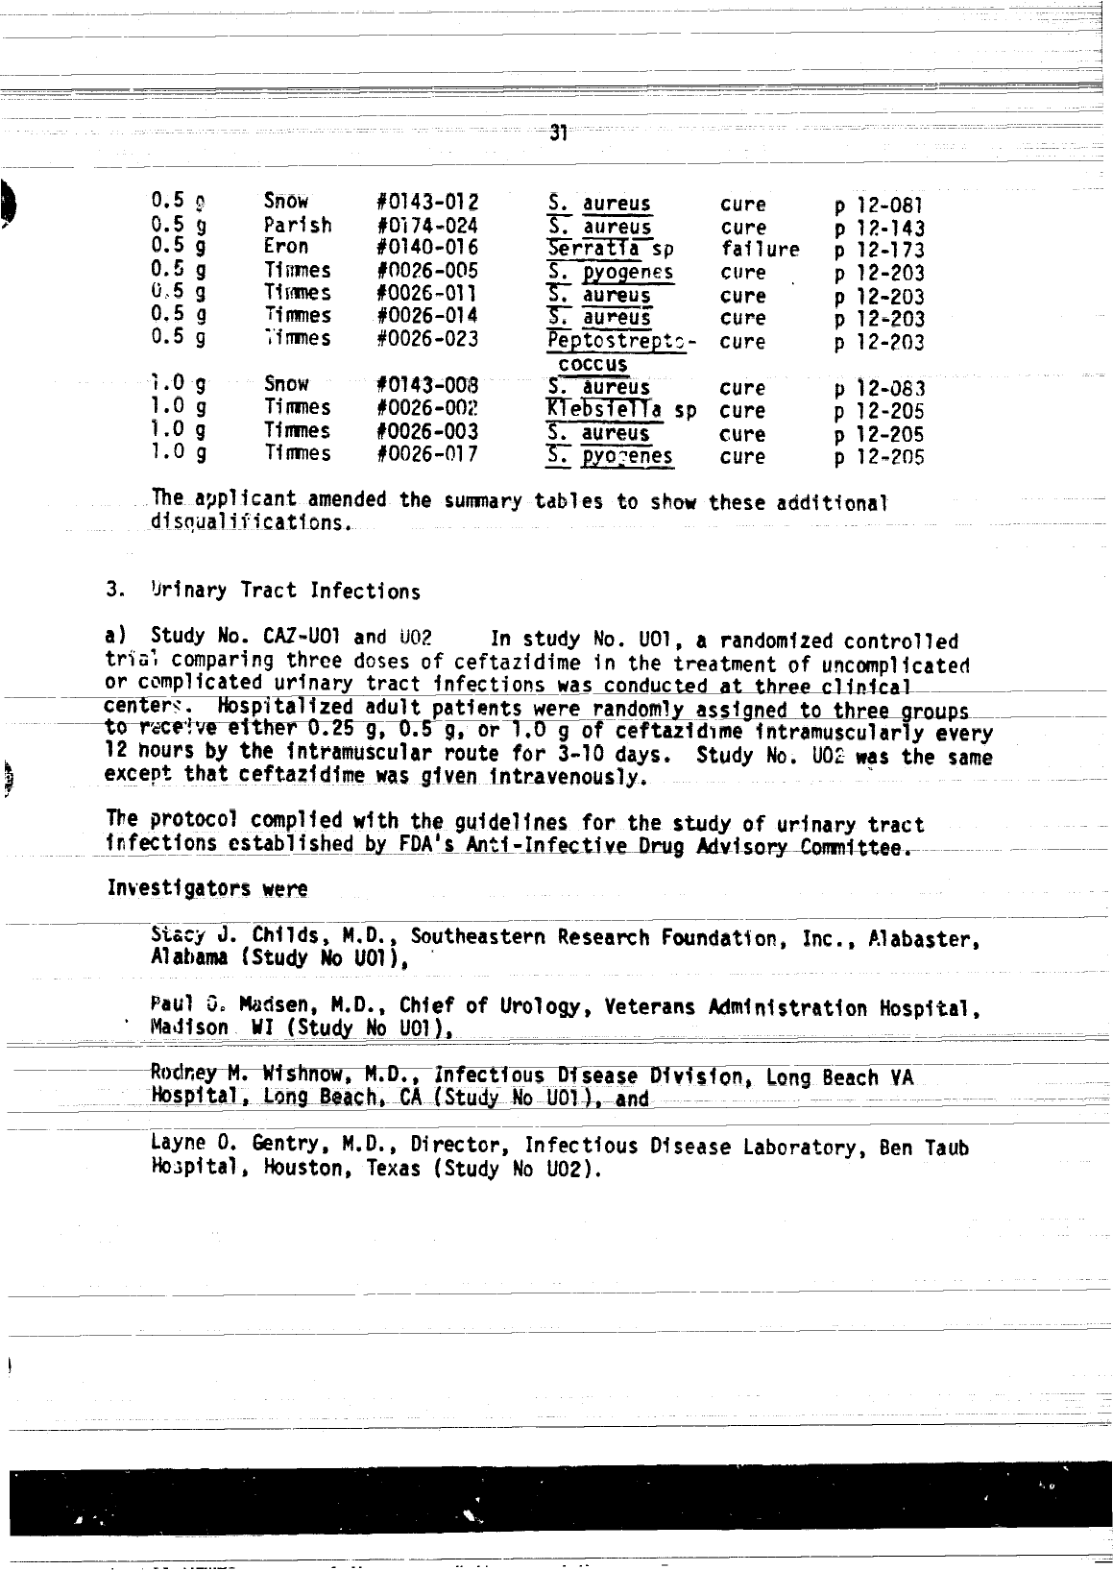nolines: (148, 186, 934, 469)
